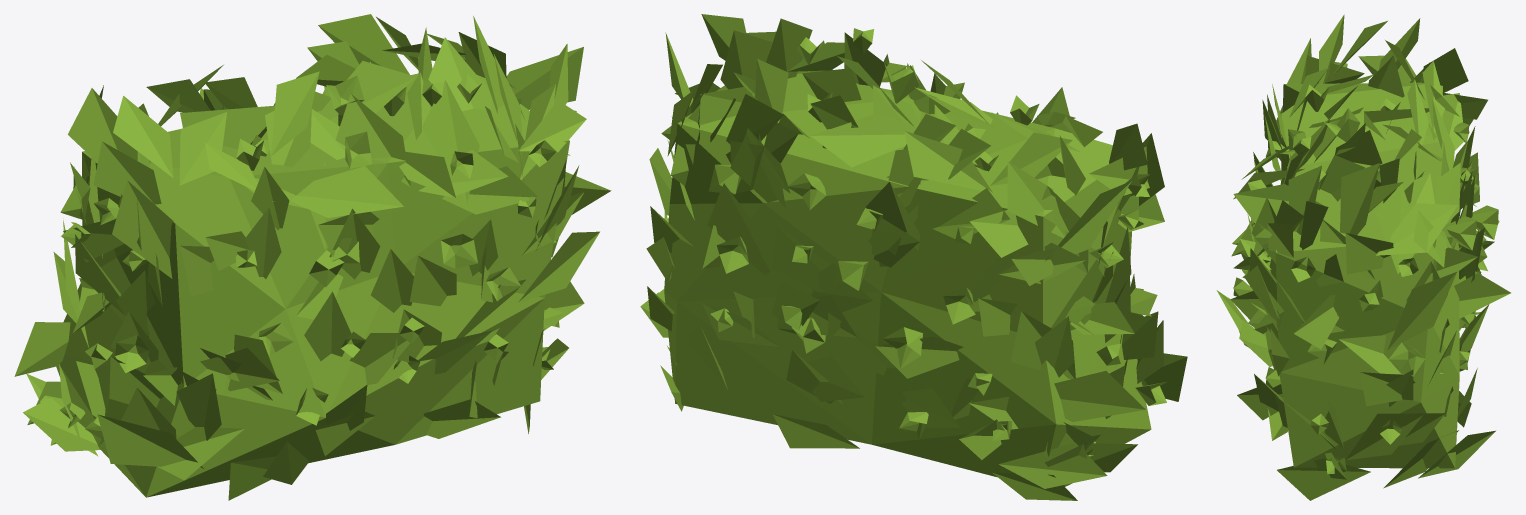
File: SM_Bush_Hedge_Flowers.fbx
The picture shows the model from 3 angles, left to right: view 1: azimuth 30°, elevation 25°; view 2: azimuth 150°, elevation 25°; view 3: azimuth 270°, elevation 25°; orthographic projection. The views are drawn at different scales.
Visible parts, largest first — view 1: SM_Bush_Hedge_Flowers; view 2: SM_Bush_Hedge_Flowers; view 3: SM_Bush_Hedge_Flowers.
Part boxes in pixels (left/top/right/bottom): SM_Bush_Hedge_Flowers: left=14, top=14, right=611, bottom=500; SM_Bush_Hedge_Flowers: left=640, top=14, right=1187, bottom=500; SM_Bush_Hedge_Flowers: left=1216, top=14, right=1510, bottom=500.
Size of the model in its own units: 1.75 by 1.24 by 1.
